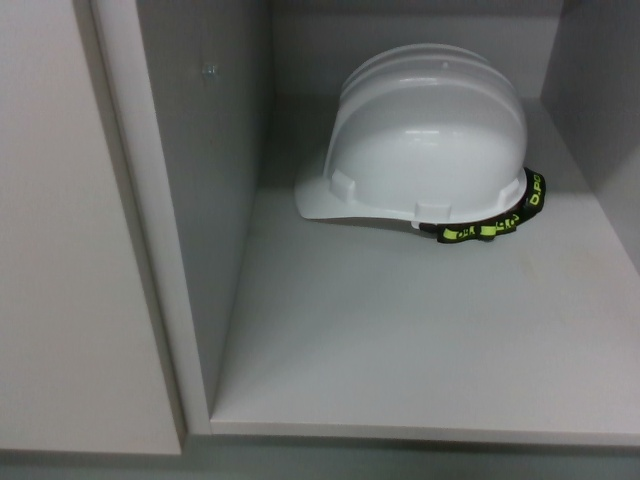helmet: (283, 38, 547, 241)
